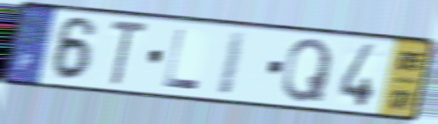4: (336, 41, 378, 110)
6: (45, 15, 103, 84)
I: (214, 28, 250, 98)
L: (161, 26, 203, 92)
Q: (279, 36, 335, 105)
T: (106, 17, 151, 88)
